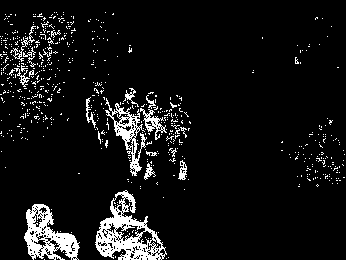person: (94, 191, 166, 260), (110, 87, 141, 177), (135, 91, 165, 182), (162, 93, 191, 181), (86, 80, 112, 149)
